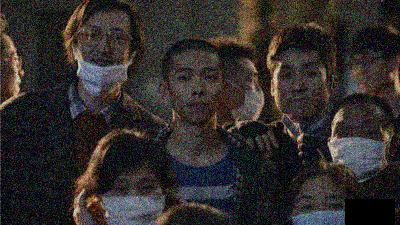mask_weared_incorrect: (77, 24, 134, 98)
with_mask: (329, 117, 388, 181), (99, 174, 168, 224), (291, 189, 356, 224), (224, 70, 267, 121)
without_mask: (274, 61, 330, 122), (170, 64, 224, 125), (351, 53, 389, 92), (1, 47, 26, 97)
